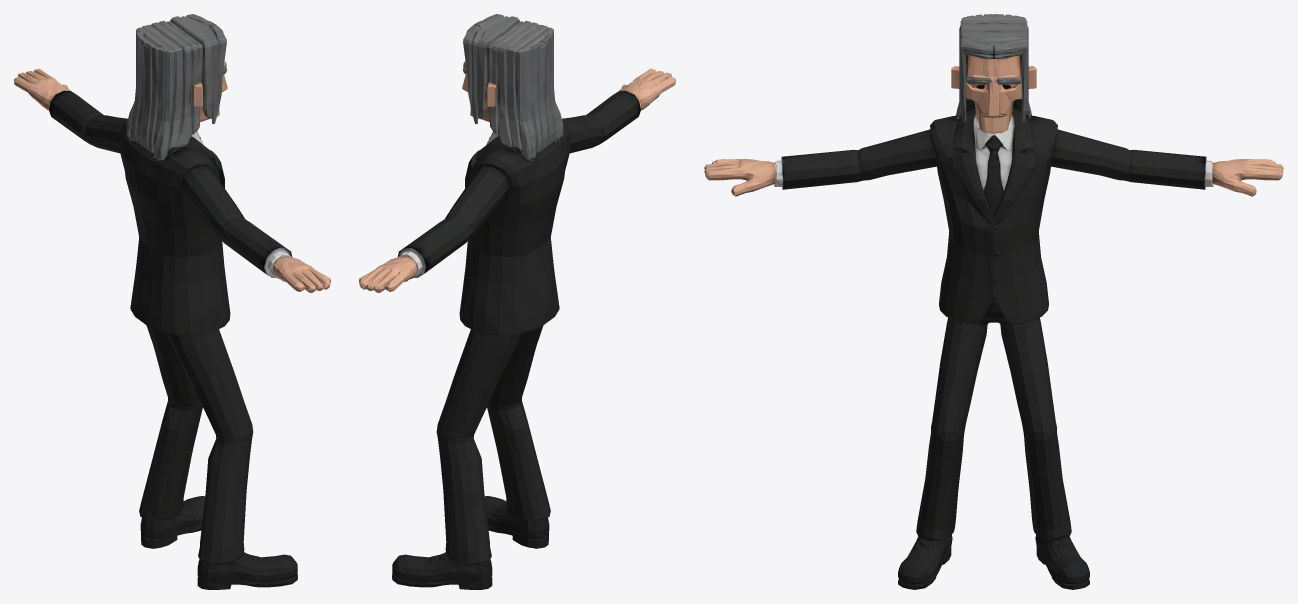
The model's file is butler+3d+model.glb.
3 renders of one model, left to right at view 1: azimuth 30°, elevation 25°; view 2: azimuth 150°, elevation 25°; view 3: azimuth 270°, elevation 25°, orthographic.
Parts seen in each view (by area): view 1: tripo_node_8ea2c4f5-a5ab-4baf-b1a1-c6bca1c7186c; view 2: tripo_node_8ea2c4f5-a5ab-4baf-b1a1-c6bca1c7186c; view 3: tripo_node_8ea2c4f5-a5ab-4baf-b1a1-c6bca1c7186c.
Part boxes in pixels (<box>): tripo_node_8ea2c4f5-a5ab-4baf-b1a1-c6bca1c7186c: <box>14,14,330,589</box>; tripo_node_8ea2c4f5-a5ab-4baf-b1a1-c6bca1c7186c: <box>359,14,675,589</box>; tripo_node_8ea2c4f5-a5ab-4baf-b1a1-c6bca1c7186c: <box>704,14,1283,589</box>.
Bounding box in the file's own units: 0.2368 × 1 × 1.
1 material, 1 textured.
